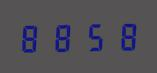eight: (48, 20, 77, 53), (18, 21, 47, 53), (108, 19, 137, 51)
five: (78, 19, 107, 52)
